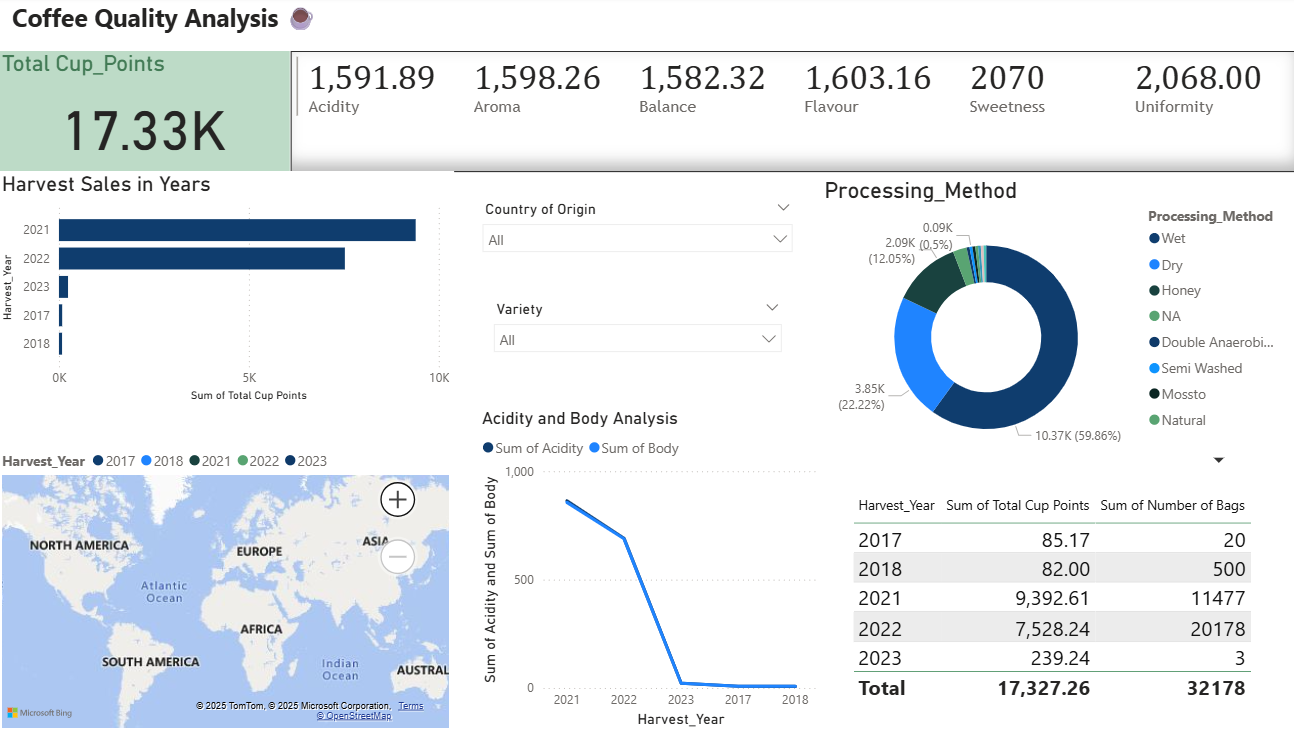

The page's visual inventory and layout, read from the dashboard file:
{"tool":"powerbi","page":{"name":"Over View _ CQA","canvas":[1280,720],"ordinal":0},"visuals":[{"type":"textbox","box":[9.6,0,348.5,53.5],"z":0},{"type":"card","title":"Total Cup_Points","fields":{"Values":["Calculations.ALL_Total_CP"]},"box":[0,53.5,286.8,118],"z":1000},{"type":"multiRowCard","fields":{"Values":["Calculations.Acidity","Calculations.Aroma","Calculations.Balance","Calculations.Flavour","Calculations.Sweetness","Calculations.Uniformity"]},"box":[286.8,53.5,993.5,118],"z":2000},{"type":"barChart","fields":{"Category":["df_arabica_clean.Harvest_Year"],"Y":["Sum(df_arabica_clean.Total Cup Points)"]},"box":[0,171.5,447.3,230.5],"z":3000},{"type":"slicer","fields":{"Values":["df_arabica_clean.Country of Origin"]},"box":[465.2,194.9,323.8,83.7],"z":4000},{"type":"slicer","fields":{"Values":["df_arabica_clean.Variety"]},"box":[476.2,292.3,301.9,57.6],"z":5000},{"type":"donutChart","title":"Processing_Method","fields":{"Y":["Sum(df_arabica_clean.Total Cup Points)"],"Category":["df_arabica_clean.Processing_Method"]},"box":[804.1,177,462.4,289.5],"z":6000},{"type":"lineChart","title":" Acidity and Body Analysis ","fields":{"Y":["Sum(df_arabica_clean.Acidity)","Sum(df_arabica_clean.Body)"],"Category":["df_arabica_clean.Harvest_Year"]},"box":[469.3,402.1,338.9,318.4],"z":7000},{"type":"tableEx","fields":{"Values":["df_arabica_clean.Harvest_Year","Sum(df_arabica_clean.Total Cup Points)","Sum(df_arabica_clean.Number of Bags)"]},"box":[831.6,481.6,408.9,220.9],"z":8000},{"type":"map","title":"MAP","fields":{"Category":["df_arabica_clean.Country of Origin"],"Size":["Sum(df_arabica_clean.Total Cup Points)"]},"box":[9.6,433.6,437.7,286.8],"z":9001}]}

Visuals, with their boxes in screenshot pixels (x1, y1, x2, y2), scaled from the page's 1280x720 canvas onto the 1294x729 screenshot:
textbox: {"left": 10, "top": 0, "right": 362, "bottom": 54}
"Total Cup_Points" card: {"left": 0, "top": 54, "right": 290, "bottom": 174}
multiRowCard - Calculations.Acidity x Calculations.Aroma: {"left": 290, "top": 54, "right": 1293, "bottom": 174}
barChart - df_arabica_clean.Harvest_Year x Sum(df_arabica_clean.Total Cup Points): {"left": 0, "top": 174, "right": 452, "bottom": 407}
slicer - df_arabica_clean.Country of Origin: {"left": 470, "top": 197, "right": 798, "bottom": 282}
slicer - df_arabica_clean.Variety: {"left": 481, "top": 296, "right": 787, "bottom": 354}
"Processing_Method" donutChart: {"left": 813, "top": 179, "right": 1280, "bottom": 472}
" Acidity and Body Analysis " lineChart: {"left": 474, "top": 407, "right": 817, "bottom": 728}
tableEx - df_arabica_clean.Harvest_Year x Sum(df_arabica_clean.Total Cup Points): {"left": 841, "top": 488, "right": 1254, "bottom": 711}
"MAP" map: {"left": 10, "top": 439, "right": 452, "bottom": 728}
